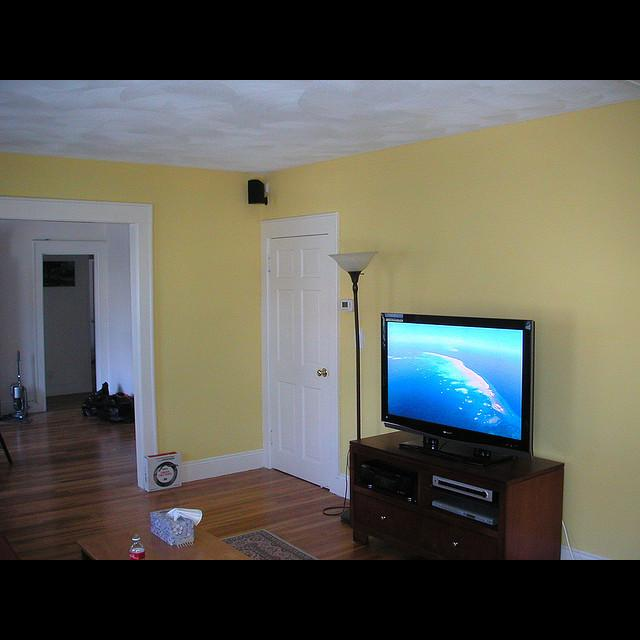Flat-Panel-TV: (380, 313, 538, 451)
